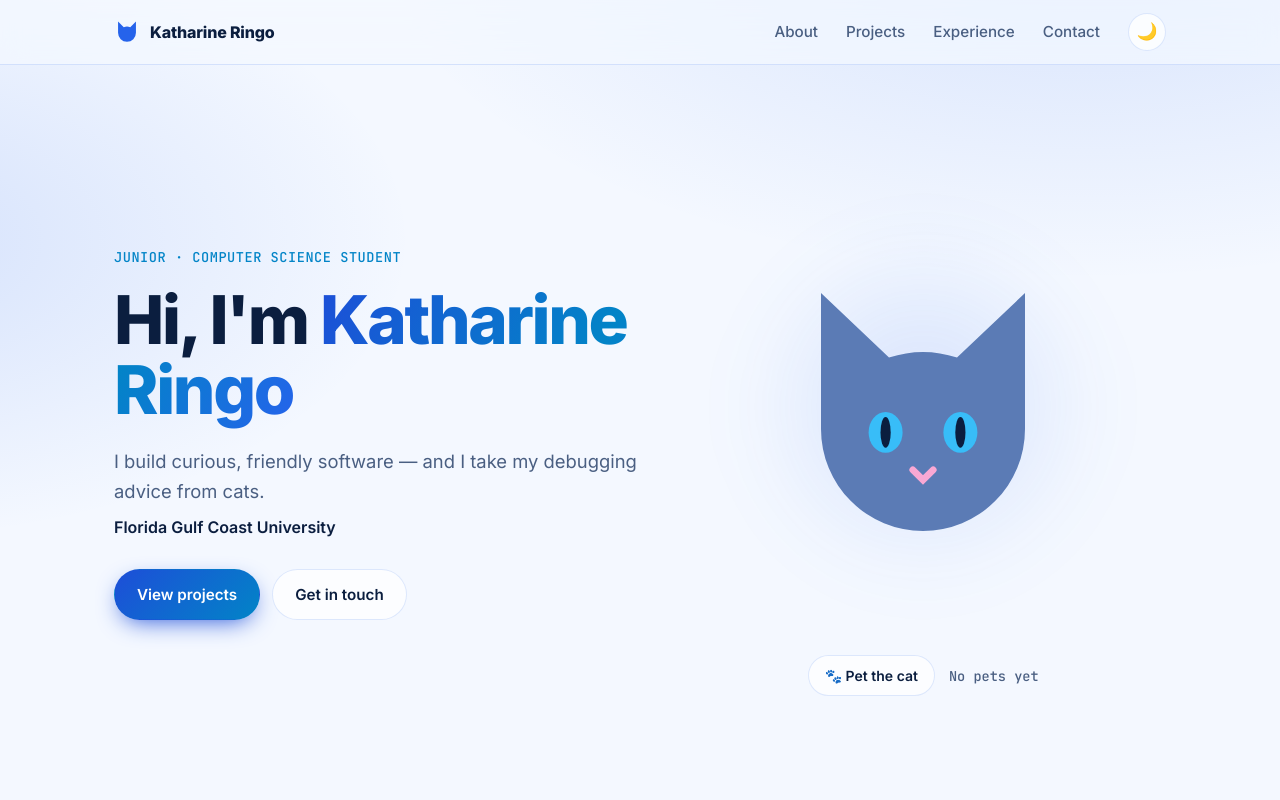
Scenario: App › counts pets on the cat
The width and height of the screenshot is (1280, 800).
Check: the text "No pets yet" is shown, box [949,665,1039,687]
Click the button "🐾 Pet the cat" at (871, 676), box [808,655,935,696]
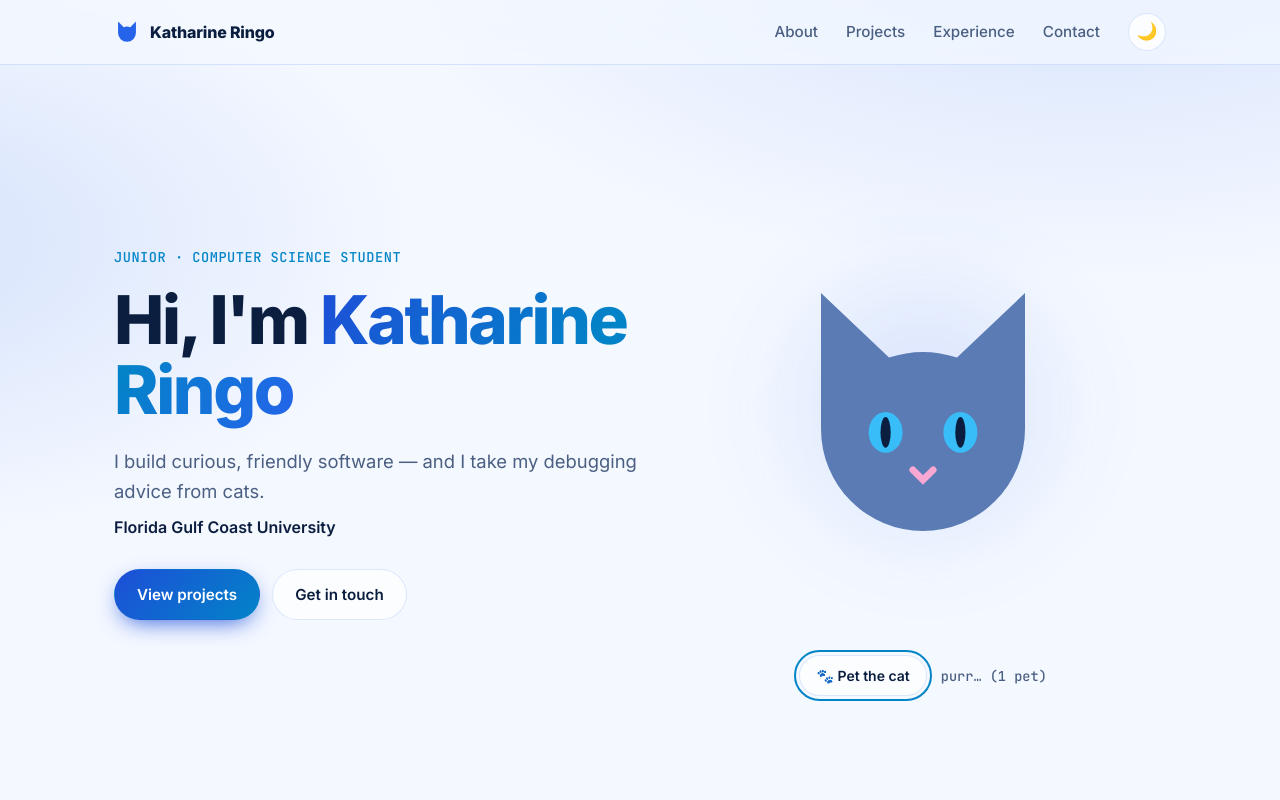
Check: the text "purr… (1 pet)" is shown, box [941,665,1047,687]
Click the button "🐾 Pet the cat" at (863, 676), box [800,655,927,696]
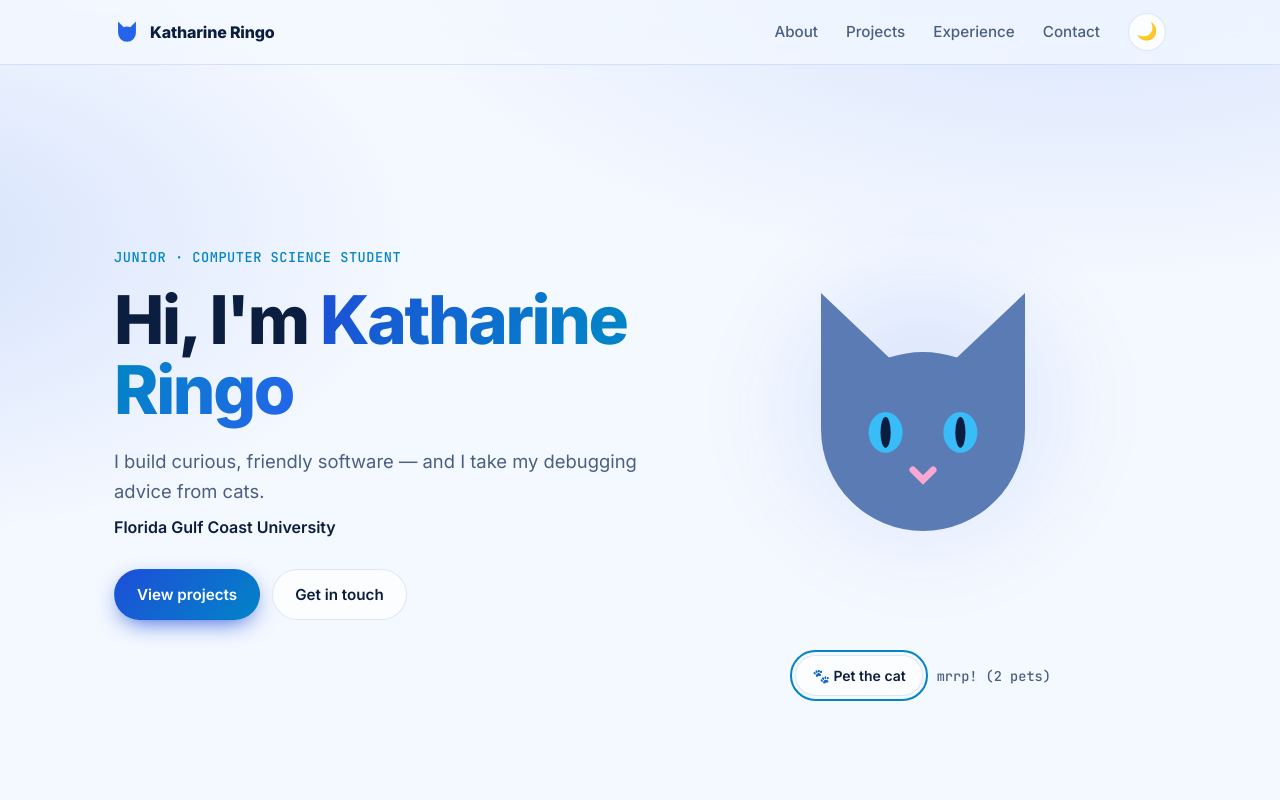
Check: the text "mrrp! (2 pets)" is shown, box [937,665,1051,687]
